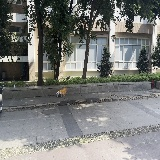fire: (58, 88, 66, 95)
